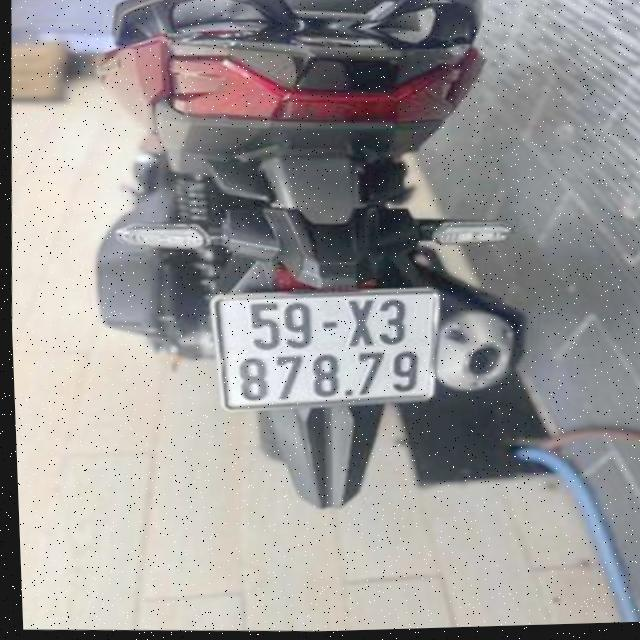motorcycle: (74, 0, 592, 576)
plate: (206, 277, 449, 421)
